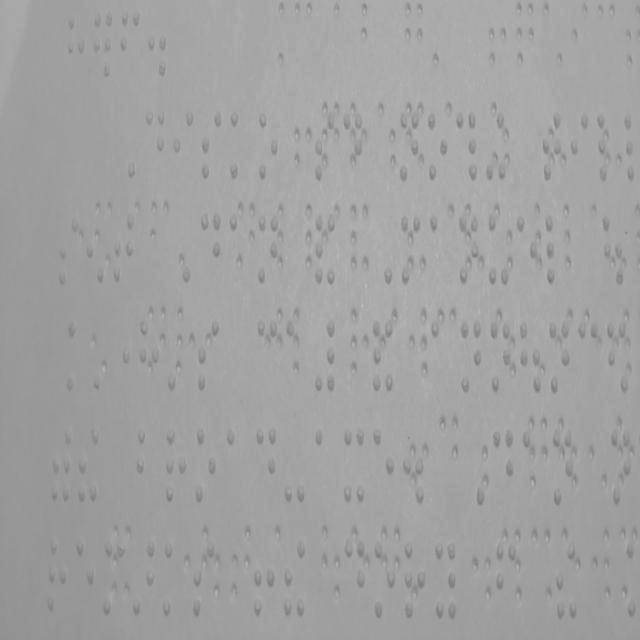braiile: (432, 530, 460, 636), (190, 532, 218, 626), (369, 420, 397, 513), (101, 530, 128, 624), (160, 530, 186, 626), (494, 532, 520, 628), (544, 314, 572, 402), (456, 309, 482, 402), (257, 104, 283, 195), (57, 203, 82, 297), (195, 310, 221, 400), (373, 528, 397, 624), (254, 203, 280, 291), (575, 317, 601, 405), (311, 108, 338, 192), (486, 314, 512, 401), (402, 534, 428, 621), (198, 104, 224, 190), (254, 310, 280, 396), (226, 207, 251, 296), (282, 306, 306, 398), (396, 102, 421, 190), (596, 102, 620, 192), (112, 202, 136, 292), (46, 530, 70, 620), (340, 424, 366, 507), (538, 104, 563, 190), (513, 206, 538, 292), (228, 104, 252, 193), (134, 422, 160, 504), (312, 420, 337, 505), (170, 104, 194, 192), (137, 310, 161, 398), (74, 530, 98, 618), (542, 203, 566, 290), (254, 420, 278, 507), (609, 424, 633, 511), (346, 526, 368, 618), (142, 102, 166, 186), (164, 422, 188, 506), (341, 104, 364, 190), (551, 424, 574, 510), (198, 204, 222, 286), (490, 424, 514, 506), (568, 102, 590, 190), (486, 206, 510, 286), (426, 207, 449, 290), (400, 206, 422, 292), (456, 207, 479, 289), (224, 422, 246, 506), (522, 422, 544, 505), (196, 424, 217, 508), (430, 303, 450, 388), (120, 6, 142, 82), (426, 109, 446, 192), (66, 8, 86, 82)
